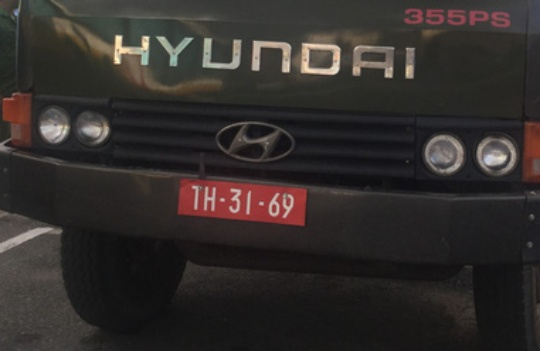plate: (173, 177, 312, 228)
